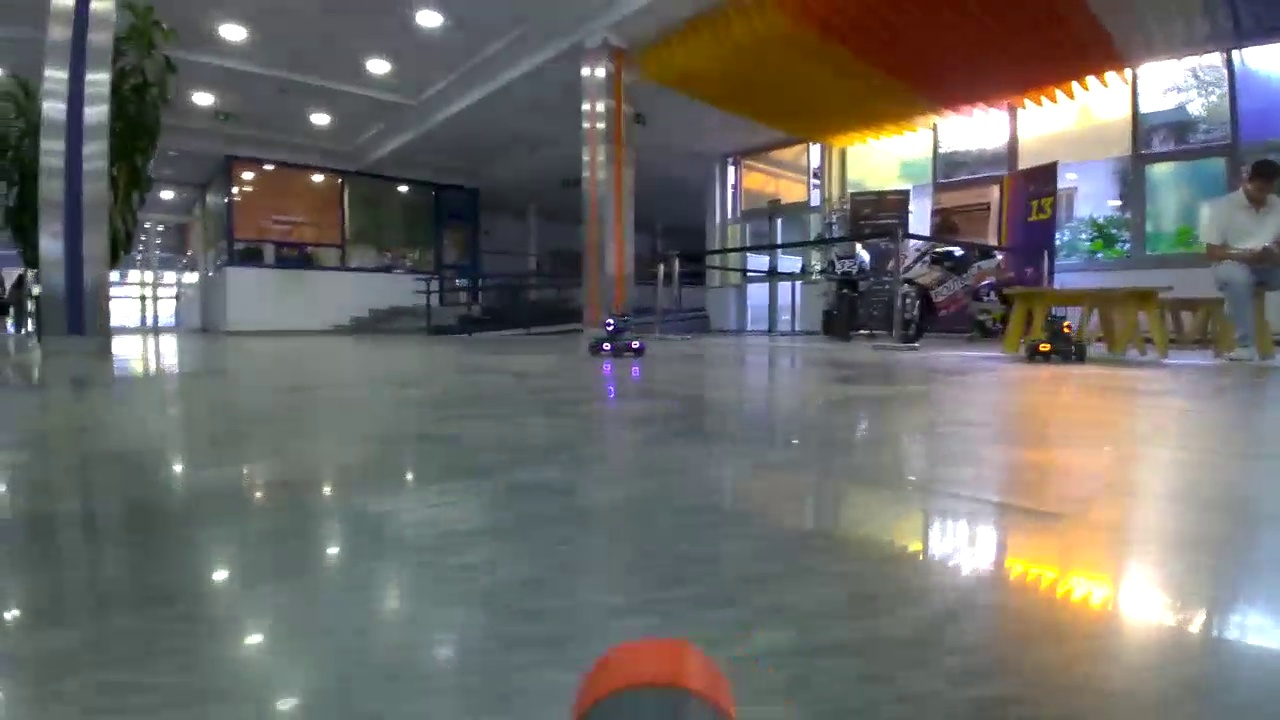robot: (1025, 308, 1088, 368), (597, 305, 648, 355)
